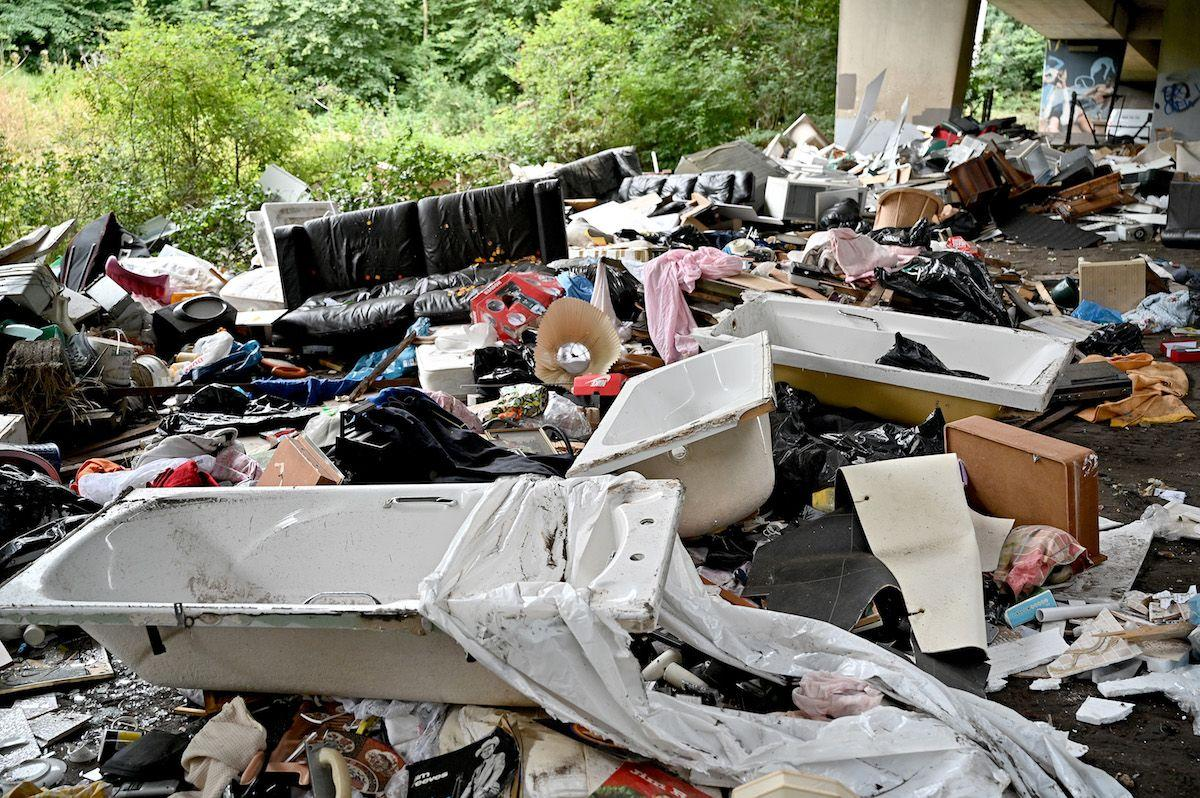garbage: (0, 174, 1179, 798)
